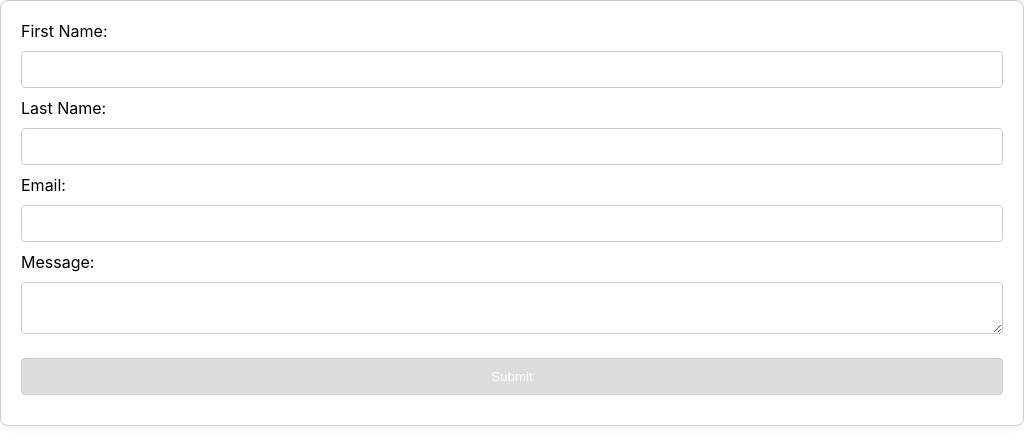
Scenario: Submit button should become enabled when all fields are filled correctly
Step 1. Type "First name" into the field labelled "First Name:" → (512, 70), box [21,51,1003,88]
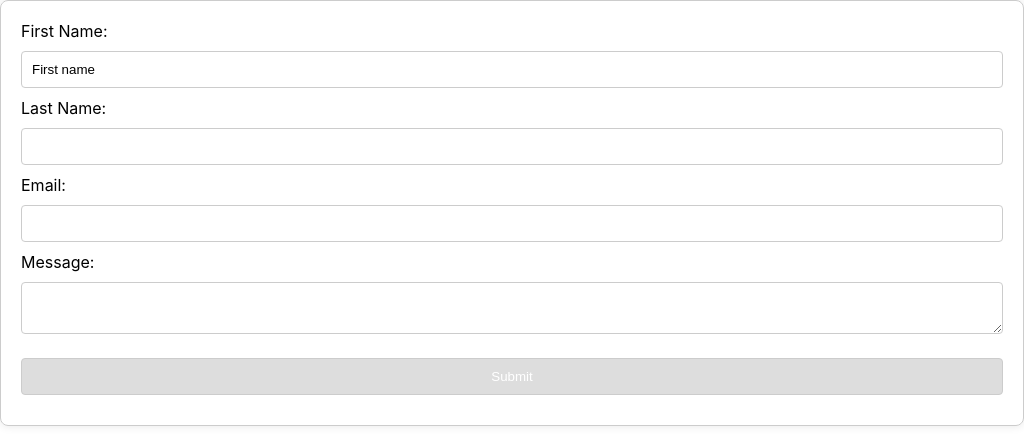
Step 2. Type "Last name" into the field labelled "Last Name:" → (512, 146), box [21,128,1003,165]
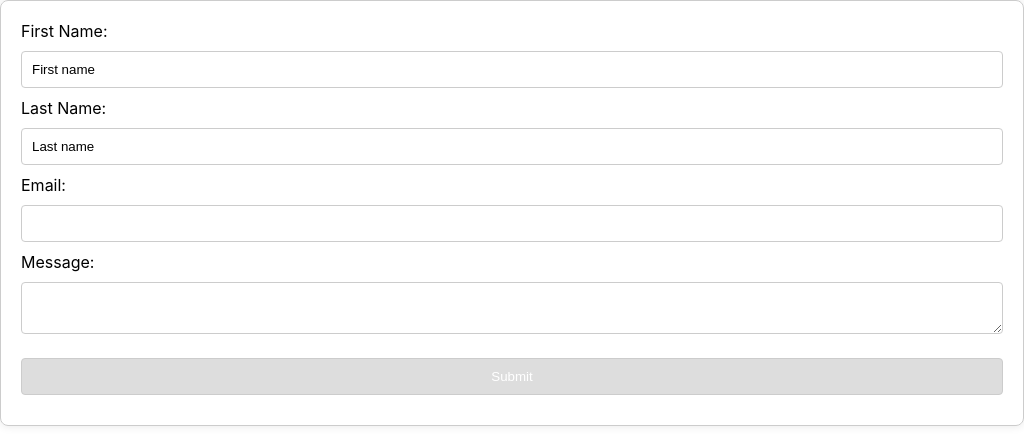
Step 3. Type "test@gmail.com" into the field labelled "Email:" → (512, 224), box [21,205,1003,242]
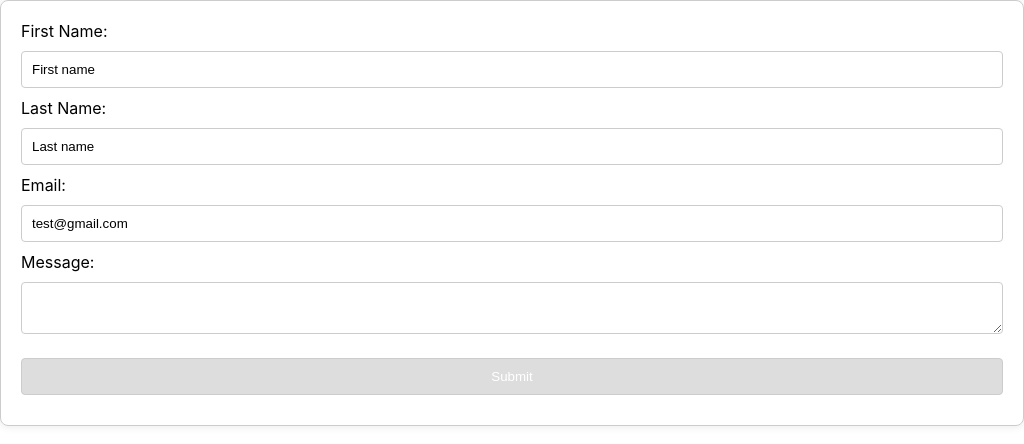
Step 4. Type "Test message" into the text box labelled "Message:" → (512, 308), box [21,282,1003,334]
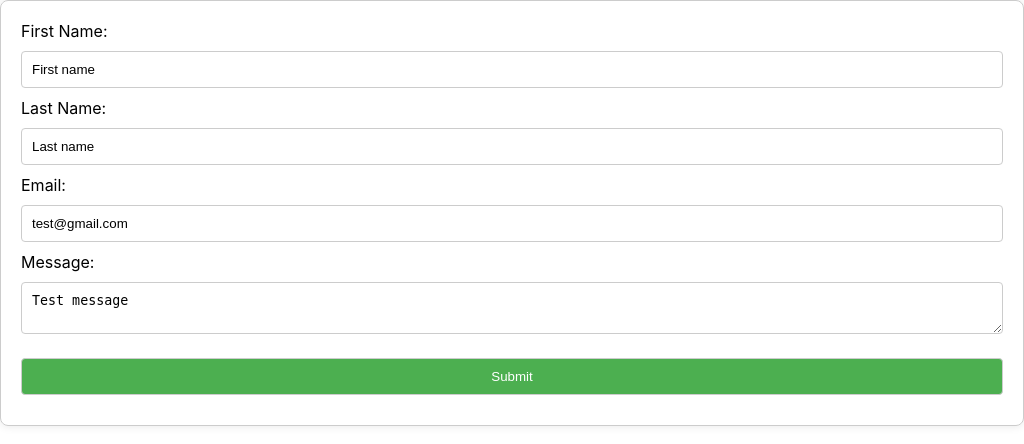
Check: the button "Submit" is enabled, box [21,358,1003,395]
